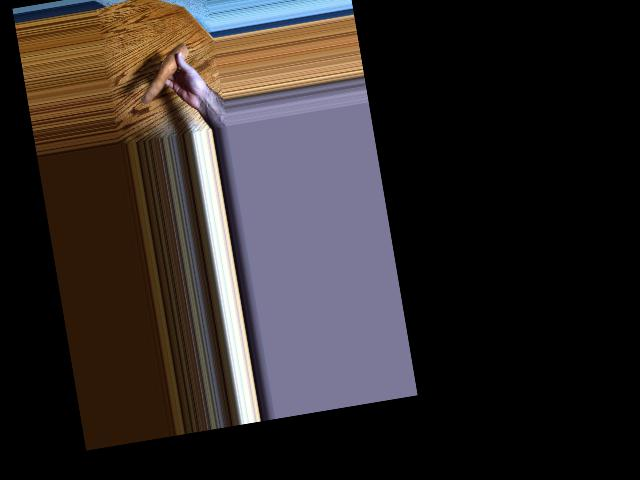sweet_potato: (134, 44, 196, 103)
